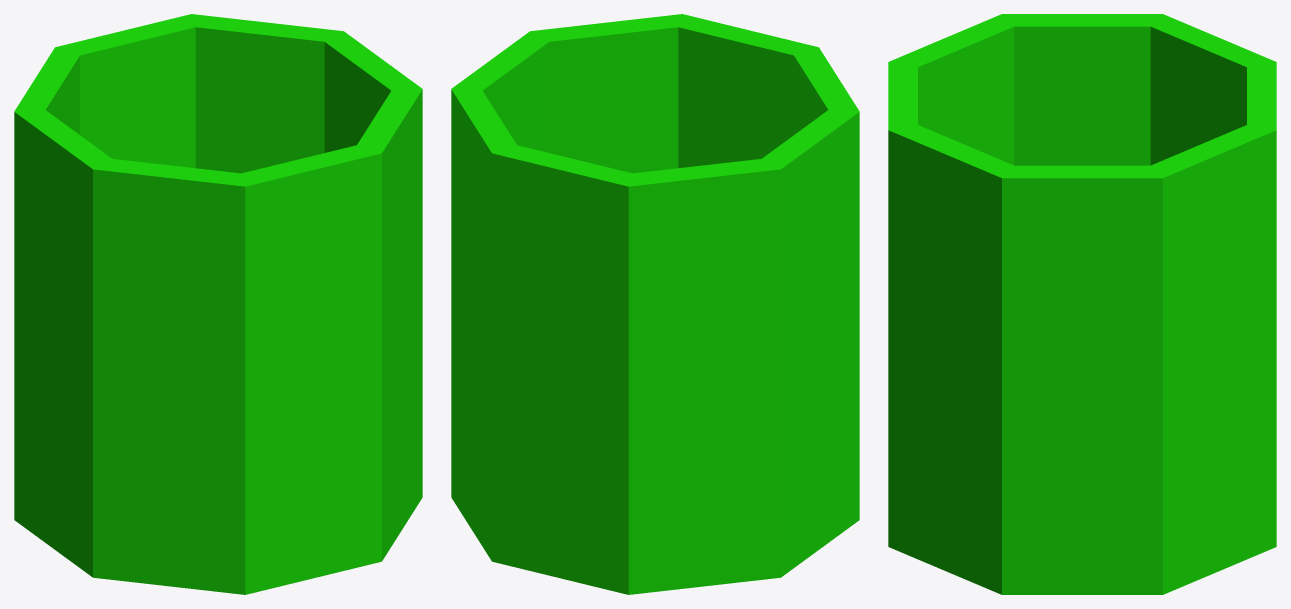
The model's file is sm_wall_360_collider_updated.fbx.
3 renders of one model, left to right at view 1: azimuth 30°, elevation 25°; view 2: azimuth 150°, elevation 25°; view 3: azimuth 270°, elevation 25°, orthographic. The views are drawn at different scales.
Parts seen in each view (by area): view 1: Circle.085; view 2: Circle.085; view 3: Circle.085.
Boxes of the visible parts, <box> form: Circle.085: <box>14,14,422,594</box>; Circle.085: <box>451,14,859,594</box>; Circle.085: <box>888,14,1276,594</box>.
Size of the model in its own units: 6.47 by 7.65 by 6.47.
